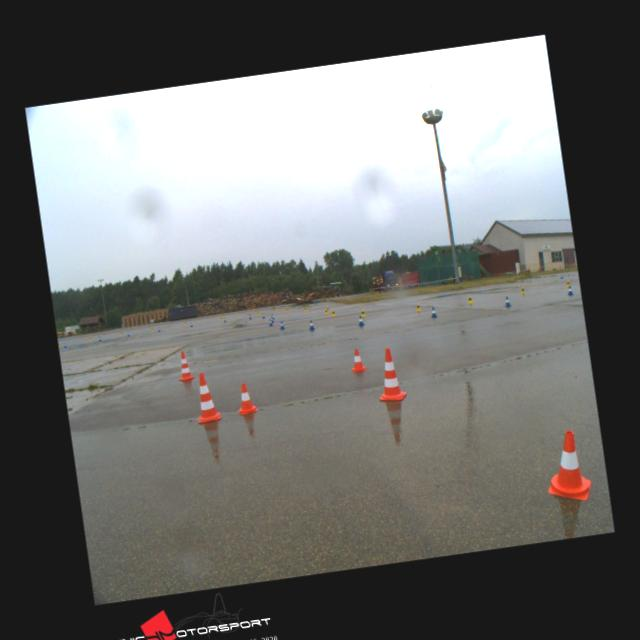blue_cone: (356, 315, 364, 326), (504, 295, 511, 307), (430, 308, 437, 318), (566, 285, 573, 295), (308, 320, 315, 330), (280, 320, 286, 330)
large_orange_cone: (372, 347, 406, 402), (192, 372, 221, 422), (176, 350, 194, 380)
orange_cone: (541, 428, 593, 504), (234, 382, 257, 414), (349, 348, 366, 372)
yellow_cone: (467, 295, 473, 304), (415, 302, 421, 311), (520, 286, 526, 294), (360, 309, 366, 317), (331, 309, 336, 317), (566, 280, 570, 286)
